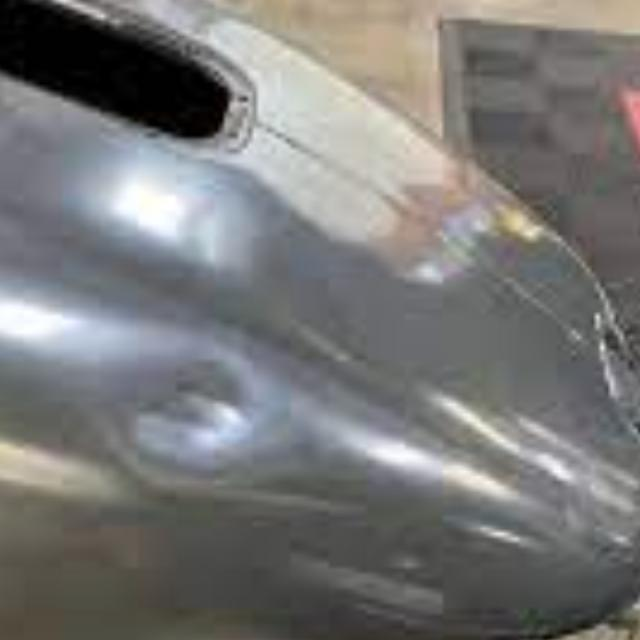dents: (126, 357, 314, 493)
